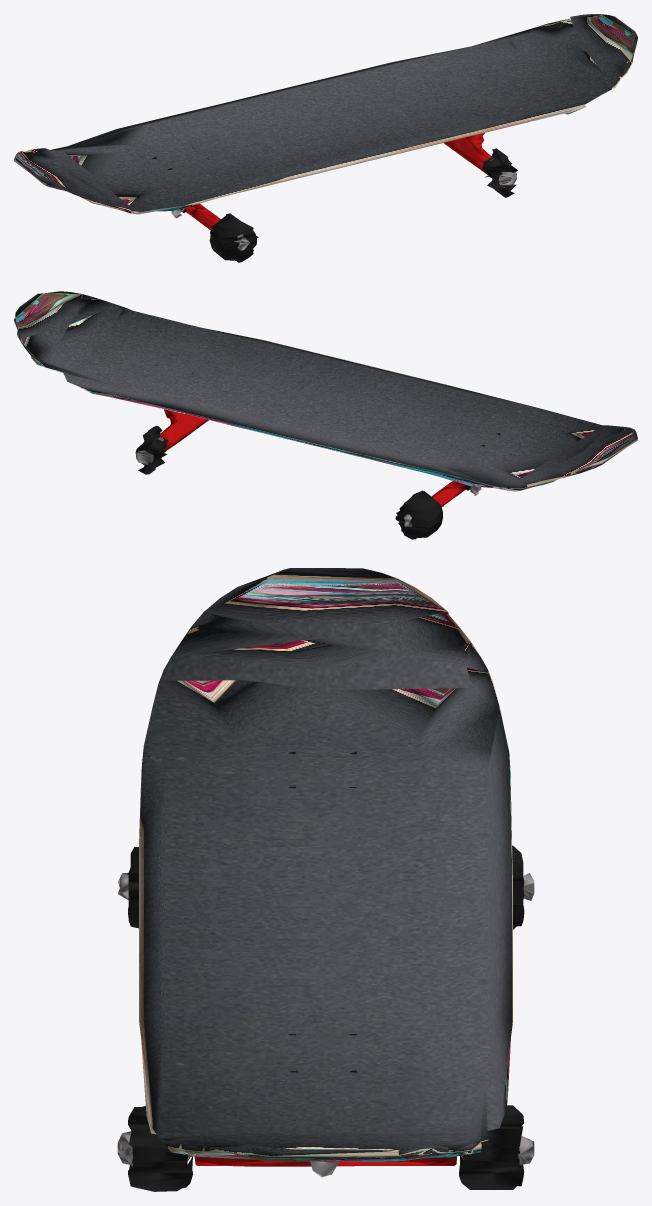
The model's file is skate.glb.
3 views of the same model, one above another, from view 1: azimuth 30°, elevation 25°; view 2: azimuth 150°, elevation 25°; view 3: azimuth 270°, elevation 25° (orthographic). The views are drawn at different scales.
Parts seen in each view (by area): view 1: skateboard_0, skateboard_4, skateboard_2, skateboard_3; view 2: skateboard_0, skateboard_4, skateboard_2, skateboard_3; view 3: skateboard_0, skateboard_4, skateboard_3, skateboard_2.
Boxes of the visible parts, x1,y1,x2,y2 form: skateboard_0: [14, 14, 637, 214]; skateboard_4: [180, 148, 517, 262]; skateboard_2: [184, 133, 491, 229]; skateboard_3: [171, 159, 516, 251]; skateboard_0: [14, 291, 637, 491]; skateboard_4: [135, 425, 470, 539]; skateboard_2: [160, 409, 466, 507]; skateboard_3: [136, 437, 481, 526]; skateboard_0: [139, 568, 512, 1161]; skateboard_4: [128, 845, 524, 1191]; skateboard_3: [117, 873, 534, 1177]; skateboard_2: [194, 1156, 456, 1166].
Size of the model in its own units: 74.24 by 12.01 by 22.42.
Materials: 5 (1 with a texture image).
